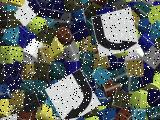Left: (91, 7, 139, 57)
Right: (45, 68, 101, 120)
